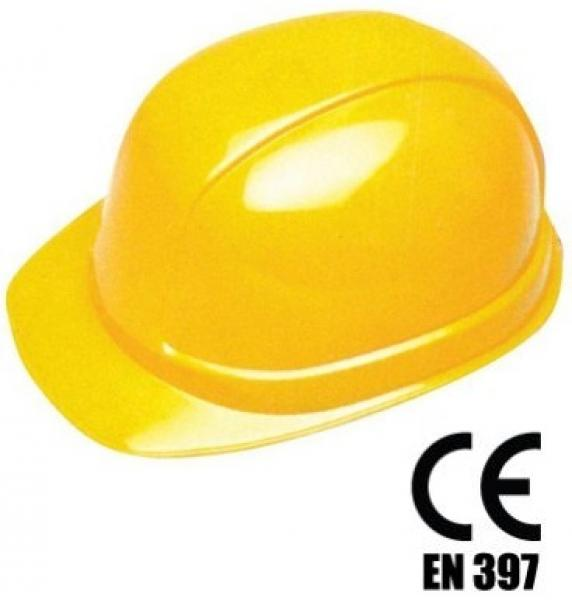elmetto: (1, 1, 572, 426)
